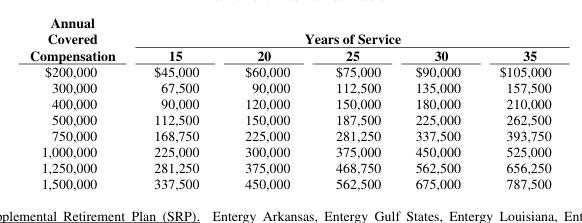table: (28, 28, 550, 191)
table column: (28, 28, 134, 191), (221, 28, 312, 191), (134, 28, 221, 191), (312, 28, 397, 191), (397, 28, 479, 191), (479, 28, 550, 191)
table column header: (28, 28, 550, 62)
table row: (28, 28, 550, 46), (28, 174, 550, 191), (28, 46, 550, 62), (28, 62, 550, 78), (28, 78, 550, 94), (28, 94, 550, 110), (28, 110, 550, 126), (28, 126, 550, 142), (28, 142, 550, 158), (28, 158, 550, 174)
table spanning cell: (134, 28, 550, 46), (28, 28, 134, 62)
